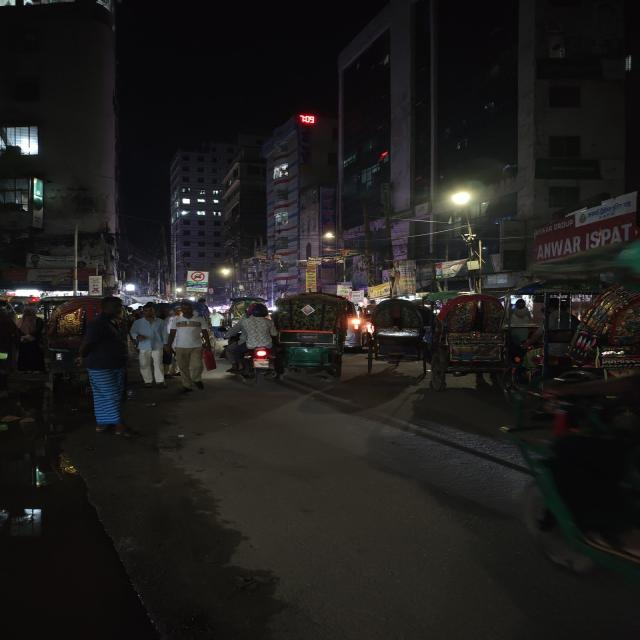pedestrian: (72, 296, 139, 438), (163, 303, 214, 392), (230, 301, 281, 387), (133, 304, 165, 388)
rickshaw: (506, 282, 634, 386), (429, 294, 514, 396), (282, 291, 356, 389), (364, 295, 432, 375)
